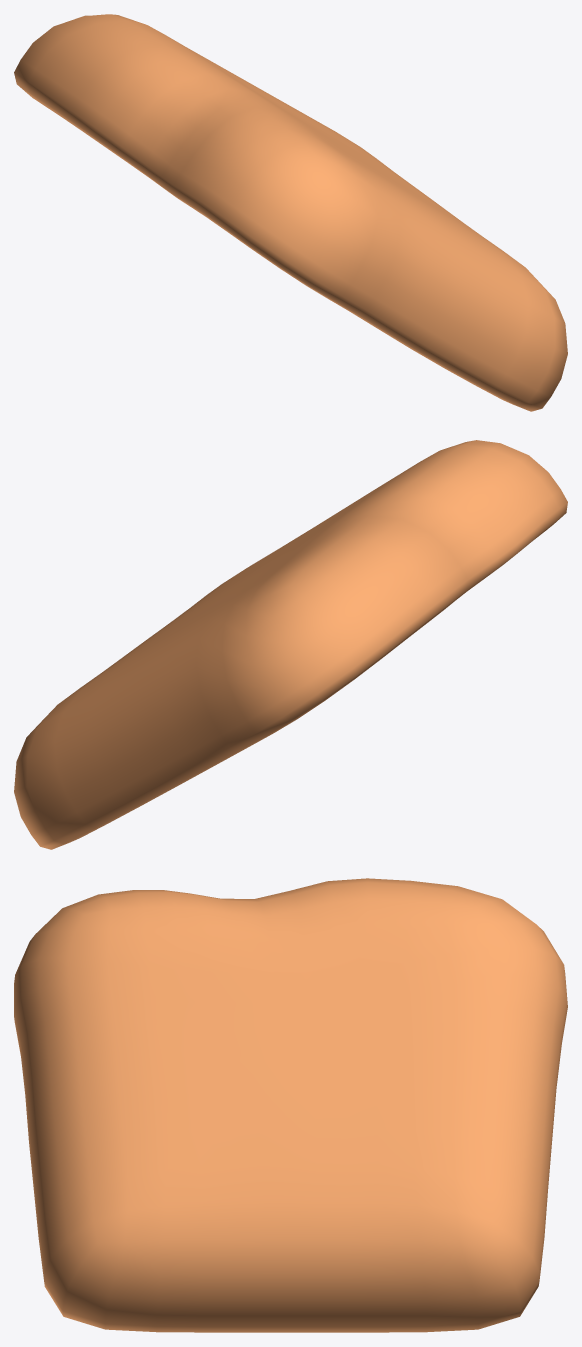
The model's file is Loaf_01.fbx.
The picture shows the model from 3 angles, top to bottom: view 1: azimuth 30°, elevation 25°; view 2: azimuth 150°, elevation 25°; view 3: azimuth 270°, elevation 25°; orthographic projection.
Visible parts, largest first — view 1: Loaf_01_LOD0; view 2: Loaf_01_LOD0; view 3: Loaf_01_LOD0.
Part boxes in pixels (x1,y1,x2,y2): Loaf_01_LOD0: [14, 14, 567, 411]; Loaf_01_LOD0: [14, 440, 567, 849]; Loaf_01_LOD0: [14, 878, 567, 1332].
Size of what is drawn, in the model's own units: 374 by 324 by 503.
